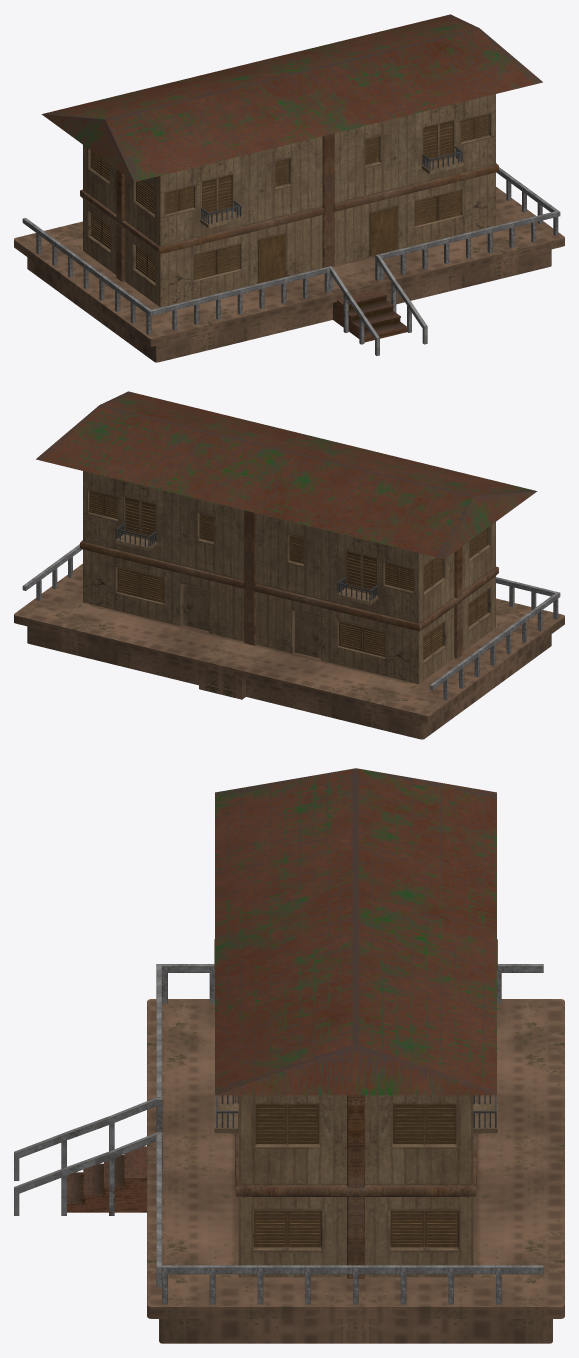
Rendered from Hotel Final.fbx.
The picture shows the model from 3 angles, top to bottom: view 1: azimuth 30°, elevation 25°; view 2: azimuth 150°, elevation 25°; view 3: azimuth 270°, elevation 25°; orthographic projection. The views are drawn at different scales.
Parts seen in each view (by area): view 1: Base, Cube.009, Cube.002, Grade da frebte[.001, Cube.001, Cube.019, Cube.023, Stairs.001, Cube.015, Cube.010, Cube.016, Cube.029 (+3 smaller); view 2: Base, Cube.009, Cube.002, Cube.001, Grade da frebte[.001, Cube.023, Cube.015, Cube.016, Cube.029, Cube.018, Cube.017, Grade de cima; view 3: Cube.009, Cube.002, Base, Grade da frebte[.001, Cube.001, Cube.018, Cube.029, Cube.010, Stairs.001.
Part boxes in pixels (x1=…): Base: x1=83, y1=94, x2=495, y2=307; Cube.009: x1=41, y1=14, x2=542, y2=181; Cube.002: x1=14, y1=187, x2=564, y2=362; Grade da frebte[.001: x1=22, y1=167, x2=560, y2=334; Cube.001: x1=80, y1=133, x2=498, y2=281; Cube.019: x1=258, y1=207, x2=397, y2=283; Cube.023: x1=193, y1=190, x2=461, y2=279; Stairs.001: x1=337, y1=289, x2=407, y2=342; Cube.015: x1=202, y1=120, x2=453, y2=216; Cube.010: x1=328, y1=254, x2=427, y2=355; Cube.016: x1=165, y1=114, x2=489, y2=214; Cube.029: x1=91, y1=213, x2=155, y2=282; Base: x1=83, y1=471, x2=495, y2=684; Cube.009: x1=36, y1=391, x2=537, y2=558; Cube.002: x1=14, y1=564, x2=564, y2=739; Cube.001: x1=80, y1=510, x2=498, y2=658; Grade da frebte[.001: x1=22, y1=544, x2=560, y2=700; Cube.023: x1=117, y1=567, x2=385, y2=656; Cube.015: x1=125, y1=497, x2=376, y2=593; Cube.016: x1=89, y1=491, x2=413, y2=591; Cube.029: x1=423, y1=590, x2=487, y2=659; Cube.018: x1=424, y1=527, x2=488, y2=591; Cube.017: x1=199, y1=514, x2=303, y2=563; Grade de cima: x1=116, y1=523, x2=377, y2=601; Cube.009: x1=215, y1=768, x2=496, y2=1095; Cube.002: x1=147, y1=999, x2=564, y2=1343; Base: x1=214, y1=939, x2=497, y2=1277; Grade da frebte[.001: x1=156, y1=964, x2=543, y2=1304; Cube.001: x1=235, y1=1095, x2=477, y2=1278; Cube.018: x1=255, y1=1104, x2=456, y2=1143; Cube.029: x1=254, y1=1211, x2=458, y2=1247; Cube.010: x1=14, y1=1097, x2=162, y2=1215; Stairs.001: x1=67, y1=1146, x2=146, y2=1212.
Size of the model in its own units: 1941 by 861 by 1469.
